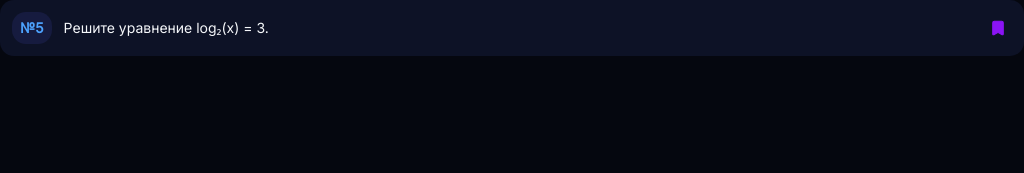
Scenario: FavoritesList (real, server-backed favorites list — "избранное must actually list what was saved") › removing a favorite calls the real DELETE and drops it from the list immediately
Expected: the text "Решите уравнение log₂(x) = 3." is shown, [64, 19, 269, 36]
Click the button named "Убрать из избранного".
click(998, 28)  # box [976, 6, 1020, 50]
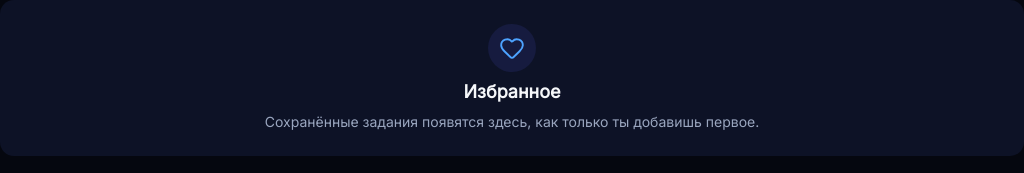
Now the button "Решите уравнение log₂(x) = 3." is gone
Now the text "появятся здесь" is shown, box [265, 113, 759, 130]
